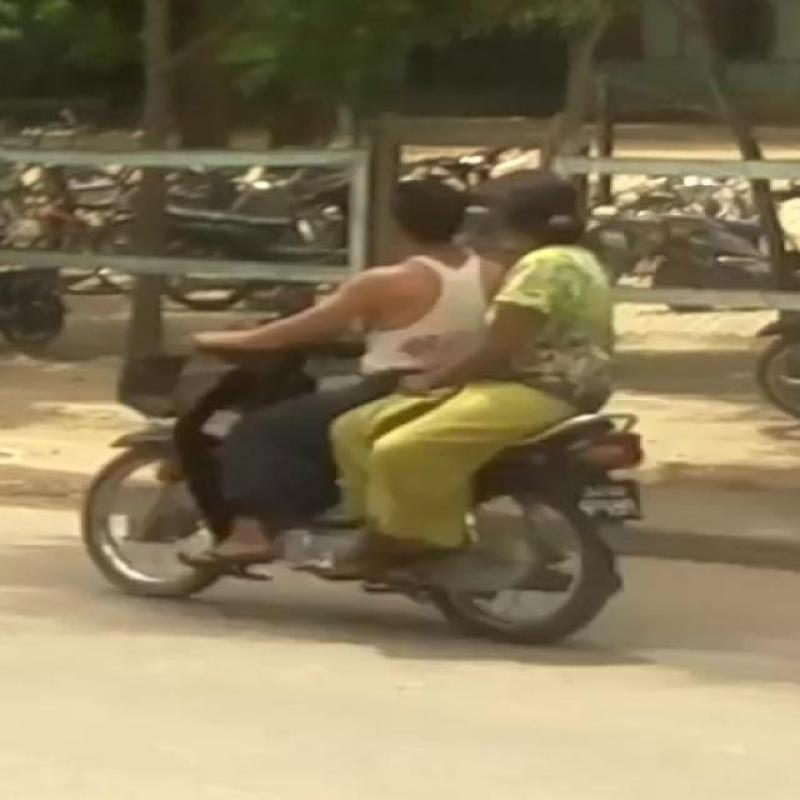nohelmet: (477, 168, 592, 244), (388, 154, 470, 248)
